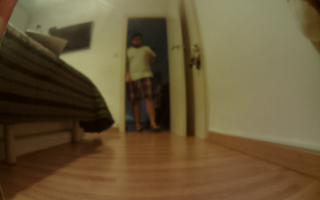person: (128, 30, 163, 134)
